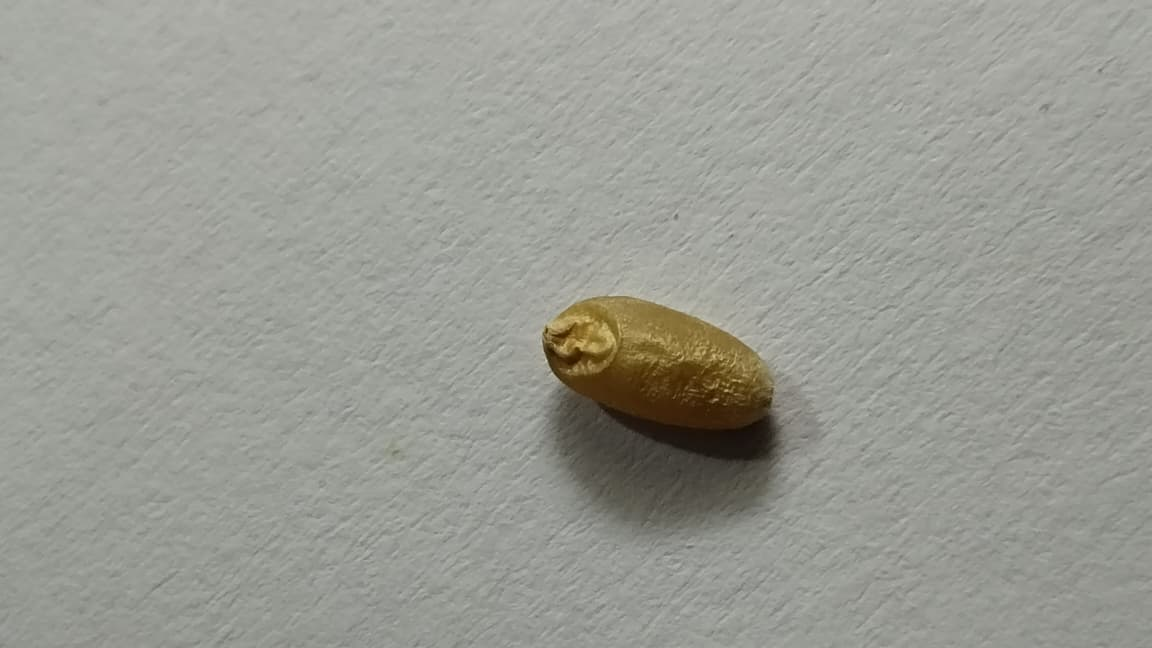healthy: (542, 294, 772, 429)
